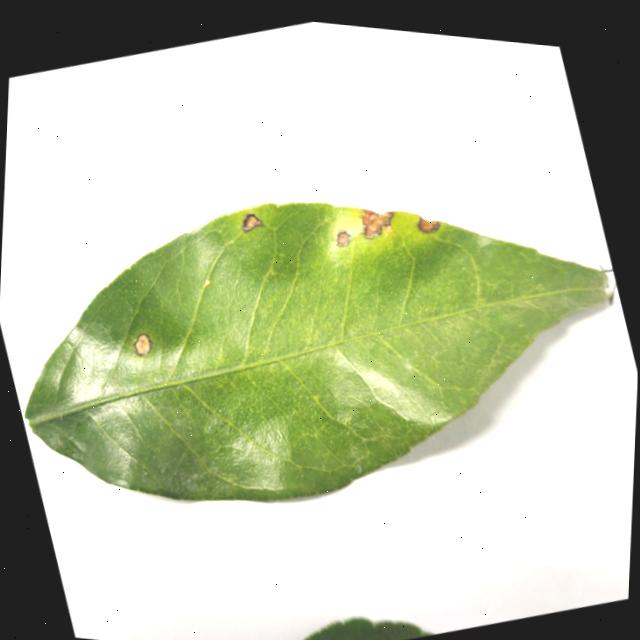antracnose: (23, 202, 609, 500), (361, 208, 392, 236), (241, 212, 262, 230), (133, 332, 150, 354), (417, 216, 439, 231), (335, 230, 349, 244)
